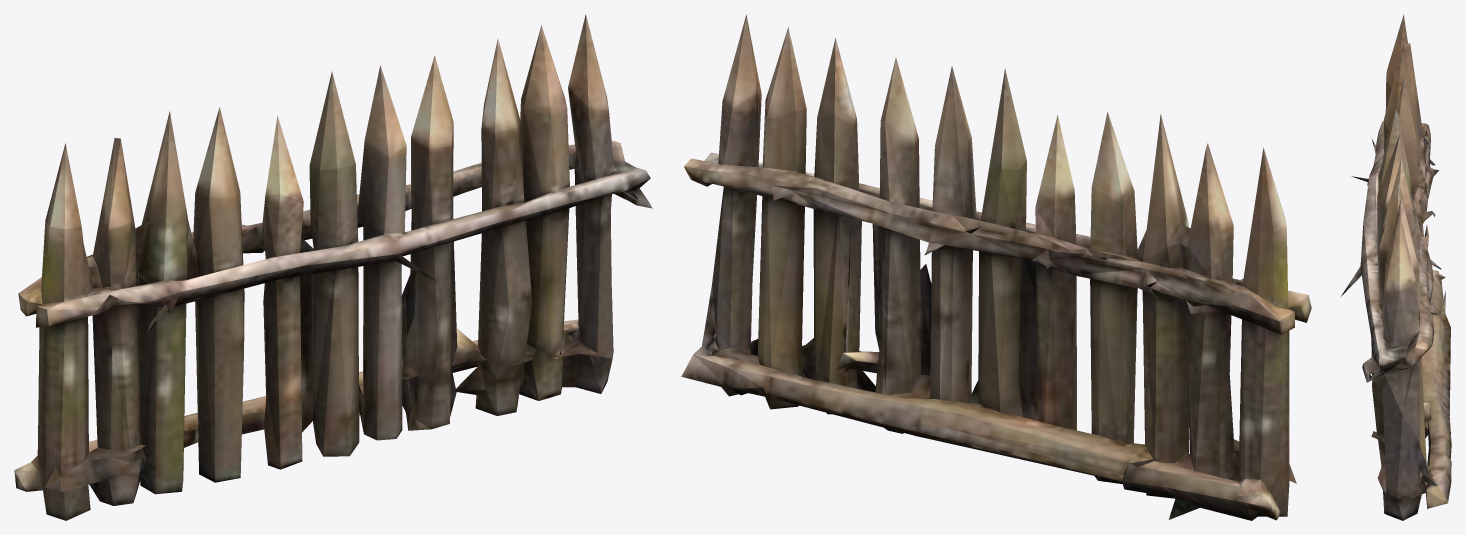
Rendered from ga3_palisade_lod1.glb.
3 views of the same model, side by side, from view 1: azimuth 30°, elevation 25°; view 2: azimuth 150°, elevation 25°; view 3: azimuth 270°, elevation 25° (orthographic). The views are drawn at different scales.
Visible parts, largest first — view 1: ga3_palisade_lod1; view 2: ga3_palisade_lod1; view 3: ga3_palisade_lod1.
Part boxes in pixels (bbox=[...]): ga3_palisade_lod1: bbox=[14, 14, 652, 520]; ga3_palisade_lod1: bbox=[681, 14, 1311, 520]; ga3_palisade_lod1: bbox=[1341, 14, 1451, 520].
Size of the model in its own units: 3.13 by 1.89 by 0.6249.
Materials: 1 (1 with a texture image).
